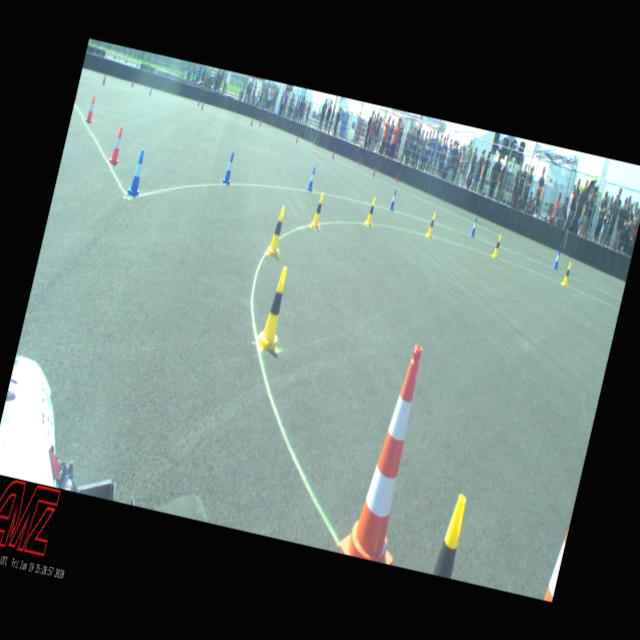blue_cone: (126, 148, 148, 196), (222, 151, 236, 184), (306, 166, 317, 191), (388, 189, 398, 210), (552, 248, 562, 269), (469, 216, 478, 236)
large_orange_cone: (336, 338, 441, 565)
orange_cone: (108, 125, 126, 165), (84, 95, 97, 122)
yellow_cone: (256, 264, 296, 350), (432, 492, 470, 578), (266, 204, 288, 255), (310, 190, 326, 228), (363, 196, 378, 225), (425, 212, 437, 238), (560, 261, 572, 286), (492, 234, 502, 258)
